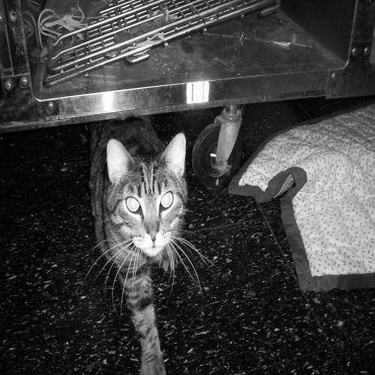cat: (93, 118, 187, 369)
